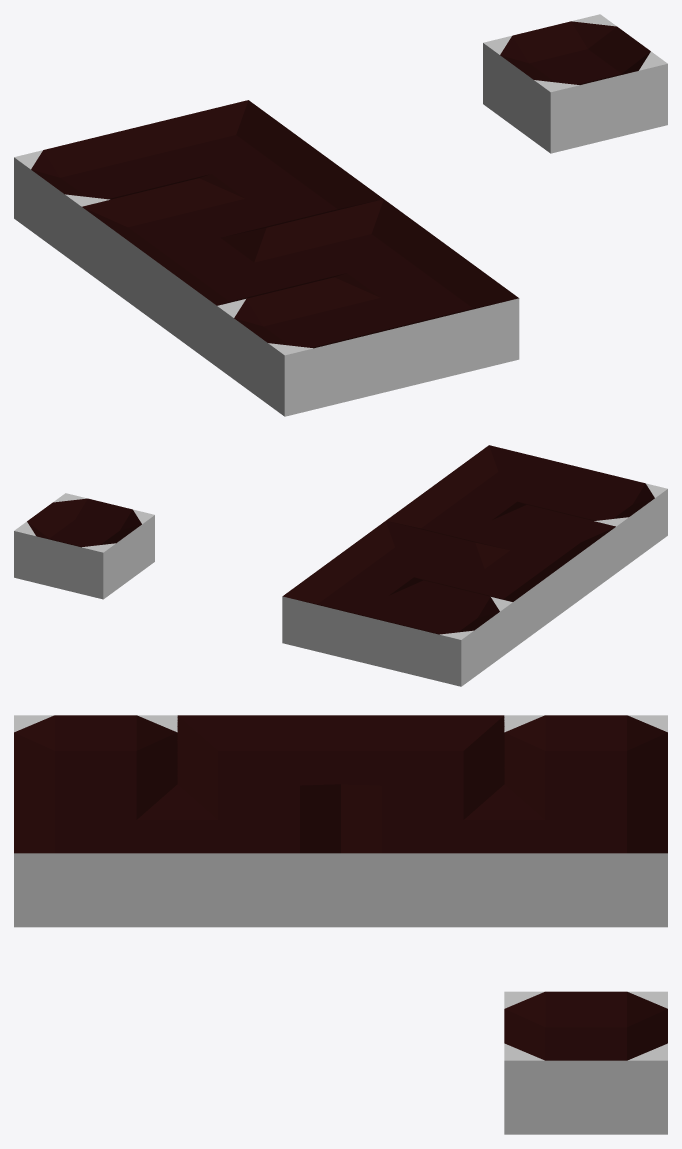
Rendered from 40s_path.obj.
3 renders of one model, top to bottom at view 1: azimuth 30°, elevation 25°; view 2: azimuth 150°, elevation 25°; view 3: azimuth 270°, elevation 25°, orthographic. The views are drawn at different scales.
Visible parts, largest first — view 1: hole.4.3_Cube.230, ending.0.0_ending.457, corner.1.0_corner.1129, corner.0.2_corner.1128, ending.0.3_ending.458, corner.1.1_corner.1130, corner.1.3_corner.1132, corner.0.1_corner.1127, corner.1.2_corner.1131; view 2: hole.4.3_Cube.230, ending.0.3_ending.458, corner.1.3_corner.1132, corner.0.1_corner.1127, ending.0.0_ending.457, corner.1.2_corner.1131, corner.1.0_corner.1129, corner.0.2_corner.1128, corner.1.1_corner.1130; view 3: hole.4.3_Cube.230, corner.1.0_corner.1129, corner.1.2_corner.1131, corner.1.1_corner.1130, corner.1.3_corner.1132, ending.0.0_ending.457, corner.0.2_corner.1128, corner.0.1_corner.1127, ending.0.3_ending.458.
Boxes of the visible parts, bbox=[...] form: hole.4.3_Cube.230: bbox=[483, 14, 667, 153]; ending.0.0_ending.457: bbox=[217, 277, 401, 416]; corner.1.0_corner.1129: bbox=[334, 249, 519, 387]; corner.0.2_corner.1128: bbox=[81, 178, 266, 317]; ending.0.3_ending.458: bbox=[14, 128, 197, 267]; corner.1.1_corner.1130: bbox=[267, 199, 451, 285]; corner.1.3_corner.1132: bbox=[131, 100, 315, 186]; corner.0.1_corner.1127: bbox=[149, 228, 331, 366]; corner.1.2_corner.1131: bbox=[199, 149, 383, 230]; hole.4.3_Cube.230: bbox=[14, 493, 154, 599]; ending.0.3_ending.458: bbox=[372, 580, 512, 686]; corner.1.3_corner.1132: bbox=[282, 559, 422, 664]; corner.0.1_corner.1127: bbox=[476, 505, 616, 610]; ending.0.0_ending.457: bbox=[528, 467, 667, 572]; corner.1.2_corner.1131: bbox=[334, 521, 474, 586]; corner.1.0_corner.1129: bbox=[438, 445, 578, 510]; corner.0.2_corner.1128: bbox=[425, 542, 564, 648]; corner.1.1_corner.1130: bbox=[386, 483, 526, 544]; hole.4.3_Cube.230: bbox=[504, 991, 667, 1134]; corner.1.0_corner.1129: bbox=[14, 784, 177, 927]; corner.1.2_corner.1131: bbox=[341, 784, 504, 927]; corner.1.1_corner.1130: bbox=[177, 784, 340, 927]; corner.1.3_corner.1132: bbox=[504, 784, 667, 927]; ending.0.0_ending.457: bbox=[14, 715, 177, 802]; corner.0.2_corner.1128: bbox=[341, 715, 504, 802]; corner.0.1_corner.1127: bbox=[177, 715, 340, 802]; ending.0.3_ending.458: bbox=[504, 715, 667, 802].
Bounding box in the file's own units: 10 × 1 × 8.
